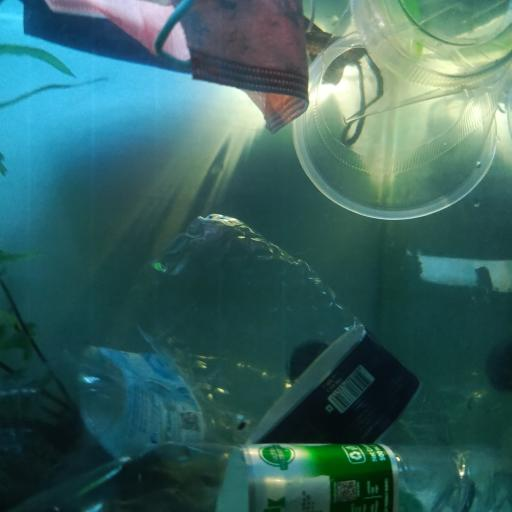mask: (23, 2, 311, 134)
plastic_bottle: (126, 213, 481, 512), (4, 338, 470, 462), (1, 434, 512, 511)
plastic_cup: (297, 0, 512, 225)
